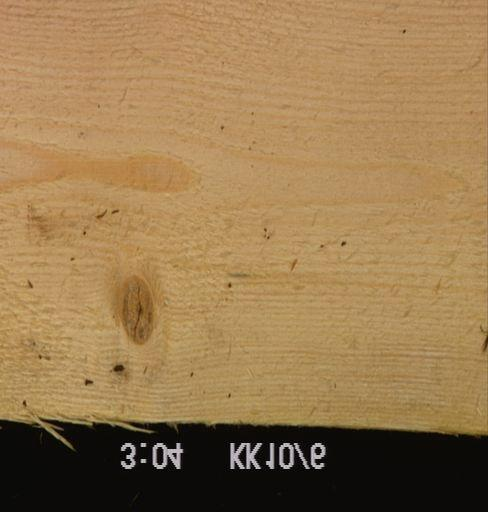sound_knot: (116, 273, 153, 345)
